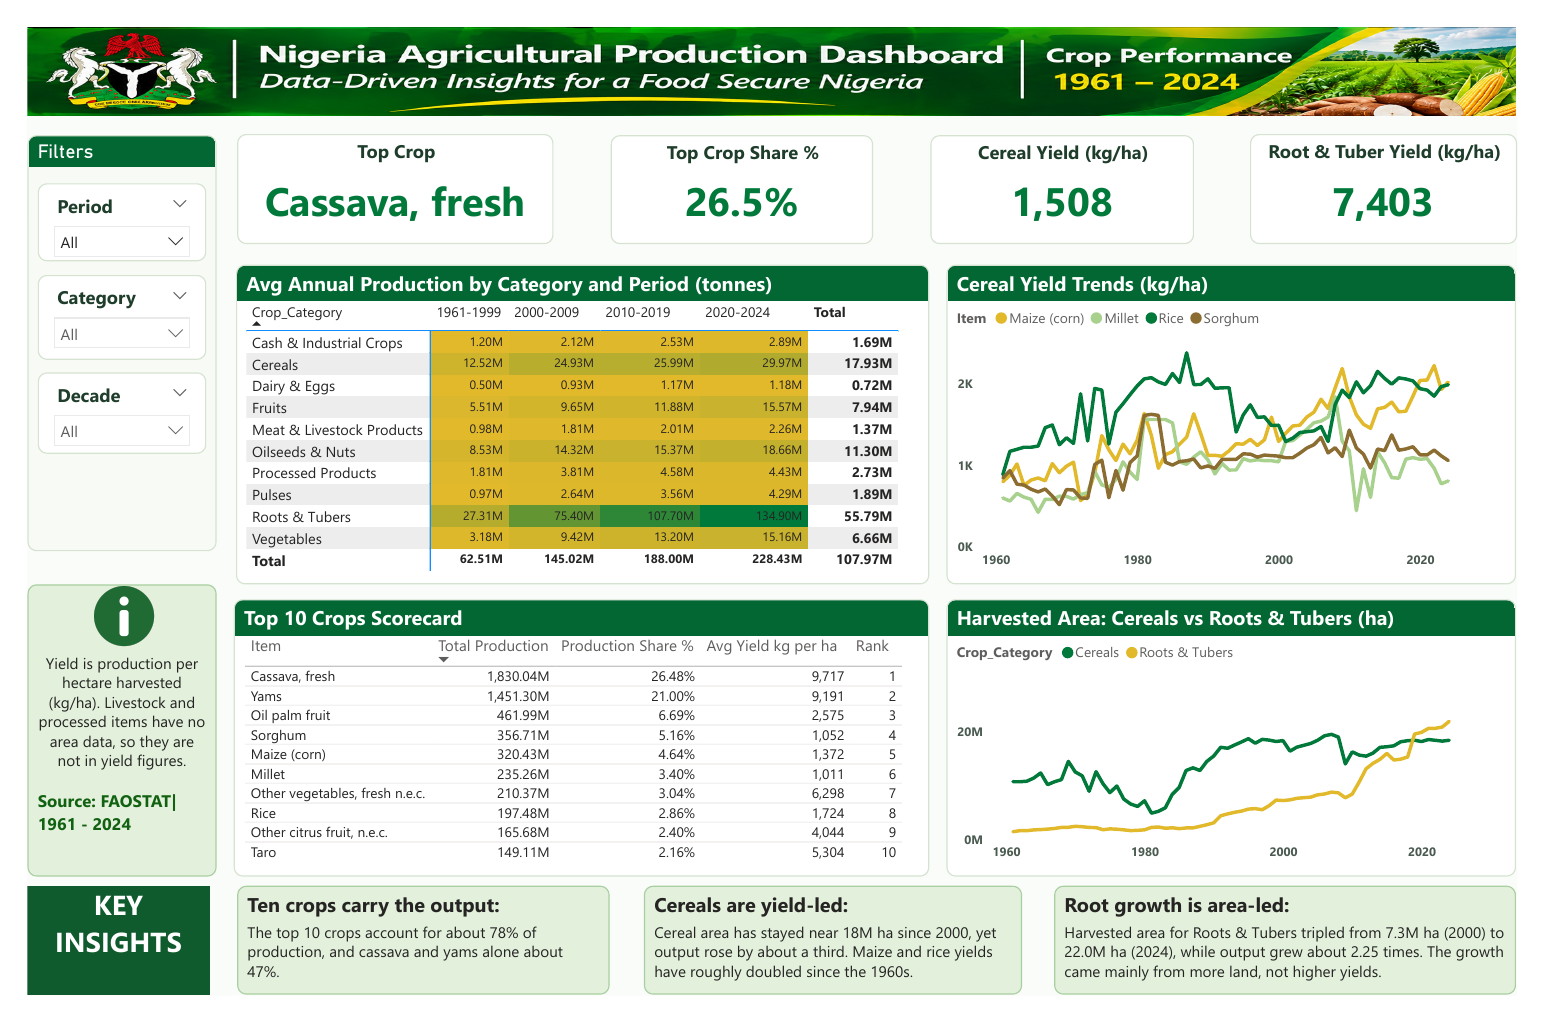

Layout of this report page (visuals, bound fields, positions):
{"tool":"powerbi","page":{"name":"Crop Performance","canvas":[1300,845],"ordinal":2},"visuals":[{"type":"image","box":[0,0,1299.3,76.5],"z":0},{"type":"card","title":"Top Crop","fields":{"Values":["_Measures.Top Crop"]},"box":[182.9,93.3,276.3,95.2],"z":1000},{"type":"card","title":"Top Crop Share %","fields":{"Values":["_Measures.Top Crop Share %"]},"box":[508.8,93.5,229.6,95.2],"z":2000},{"type":"card","title":"Cereal Yield (kg/ha) ","fields":{"Values":["_Measures.Cereal Avg Yield"]},"box":[788,93.5,229.6,95.2],"z":3000},{"type":"card","title":"Root & Tuber Yield (kg/ha)","fields":{"Values":["_Measures.Roots Tubers Avg Yield"]},"box":[1067.1,93.5,232.9,95.3],"z":4000},{"type":"pivotTable","title":"Avg Annual Production by Category and Period (tonnes)","fields":{"Rows":["Dim_item.Crop_Category"],"Columns":["Fact_Production.Period"],"Values":["_Measures.Avg Annual Production"]},"box":[182.3,207.3,604.6,278.3],"z":5000},{"type":"tableEx","title":"Top 10 Crops Scorecard","fields":{"Values":["Dim_item.Item","_Measures.Total Production","_Measures.Production Share %","_Measures.Avg Yield kg per ha","_Measures.Production Rank"]},"box":[180.4,499,606.5,241.8],"z":6000},{"type":"lineChart","title":"Cereal Yield Trends (kg/ha)","fields":{"Category":["Dim_Year.Year"],"Y":["_Measures.Avg Yield kg per ha"],"Series":["Dim_item.Item"]},"box":[802.3,207.3,497.1,278.3],"z":7000},{"type":"lineChart","title":"Harvested Area: Cereals vs Roots & Tubers (ha)","fields":{"Category":["Dim_Year.Year"],"Y":["_Measures.Total Area Harvested"],"Series":["Dim_item.Crop_Category"]},"box":[802.3,499,497.1,241.8],"z":8000},{"type":"textbox","title":"Filters","box":[0,93.5,165,363.1],"z":9000},{"type":"slicer","fields":{"Values":["Fact_Production.Period"]},"box":[9.2,135.7,146.7,67.8],"z":10000},{"type":"slicer","fields":{"Values":["Dim_item.Crop_Category"]},"box":[9.2,216.4,146.7,73.3],"z":11000},{"type":"slicer","fields":{"Values":["Dim_Year.Decade"]},"box":[9.2,300.7,146.7,71.5],"z":12000},{"type":"textbox","title":"<svg xmlns=\"http://www.w3.org/2000/svg\" width=\"128\" height=\"128\" viewBox=\"0 0 128 128\" xmlns:c2pa=\"http://c2pa.org/manifest\">   <circle cx=\"64\" cy=\"64\" r=\"60\" fill=\"#1F6B33\"/>   <circle cx=\"64\" cy=\"34","box":[0,485.6,165.1,255.3],"z":13000},{"type":"image","box":[53.7,485.6,61.4,55.7],"z":14000},{"type":"textbox","title":"Ten crops carry the output:","box":[182.9,748.6,324.8,95.2],"z":15000},{"type":"textbox","title":"KEY INSIGHTS","box":[0,748.6,158.7,95.2],"z":16000},{"type":"textbox","title":"Cereals are yield-led:","box":[537.6,748.6,330.4,95.2],"z":17000},{"type":"textbox","title":"Root growth is area-led:","box":[896,748.6,403.2,95.2],"z":18000}]}

Visuals, with their boxes in screenshot pixels (x1, y1, x2, y2), scaled from the page's 1300x845 canvas onto the 1545x1024 screenshot:
image: box(0, 0, 1544, 93)
"Top Crop" card: box(217, 113, 546, 228)
"Top Crop Share %" card: box(605, 113, 878, 229)
"Cereal Yield (kg/ha) " card: box(937, 113, 1209, 229)
"Root & Tuber Yield (kg/ha)" card: box(1268, 113, 1544, 229)
"Avg Annual Production by Category and Period (tonnes)" pivotTable: box(217, 251, 935, 588)
"Top 10 Crops Scorecard" tableEx: box(214, 605, 935, 898)
"Cereal Yield Trends (kg/ha)" lineChart: box(954, 251, 1544, 588)
"Harvested Area: Cereals vs Roots & Tubers (ha)" lineChart: box(954, 605, 1544, 898)
"Filters" textbox: box(0, 113, 196, 553)
slicer - Fact_Production.Period: box(11, 164, 185, 247)
slicer - Dim_item.Crop_Category: box(11, 262, 185, 351)
slicer - Dim_Year.Decade: box(11, 364, 185, 451)
"<svg xmlns="http://www.w3.org/2000/svg" width="128" height="128" viewBox="0 0 128 128" xmlns:c2pa="http://c2pa.org/manifest">   <circle cx="64" cy="64" r="60" fill="#1F6B33"/>   <circle cx="64" cy="34" textbox: box(0, 588, 196, 898)
image: box(64, 588, 137, 656)
"Ten crops carry the output:" textbox: box(217, 907, 603, 1023)
"KEY INSIGHTS" textbox: box(0, 907, 189, 1023)
"Cereals are yield-led:" textbox: box(639, 907, 1032, 1023)
"Root growth is area-led:" textbox: box(1065, 907, 1544, 1023)
